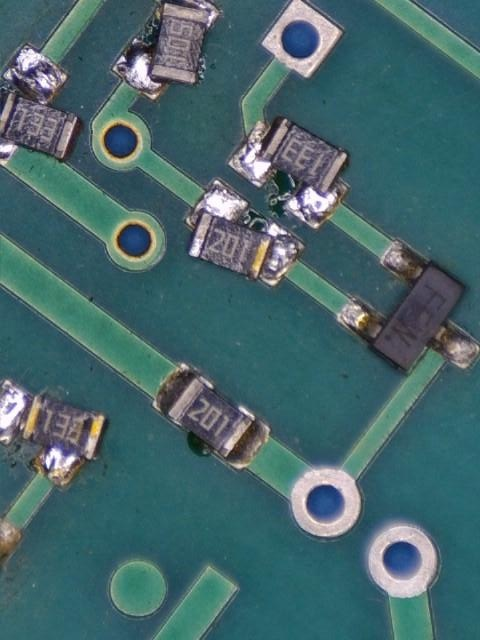pcb_defect: (227, 117, 351, 231), (184, 177, 307, 289), (0, 376, 110, 491), (110, 0, 221, 102)
